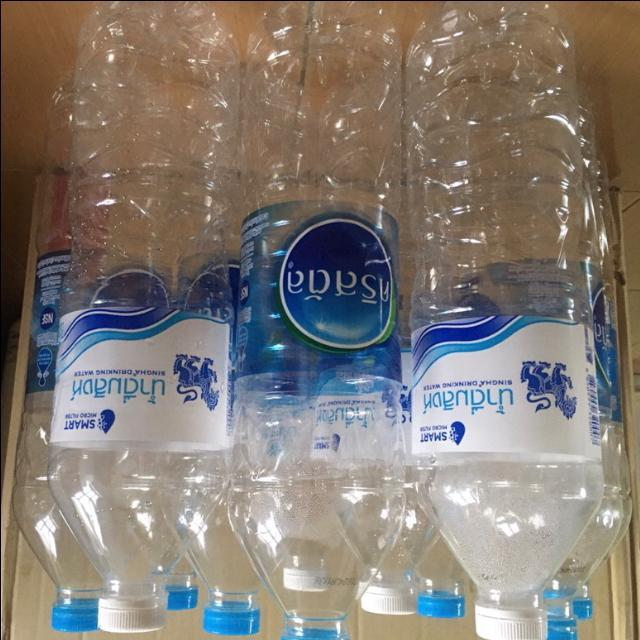PET Bottle: (408, 7, 640, 640), (56, 0, 232, 615), (246, 11, 399, 640), (0, 14, 109, 640)
